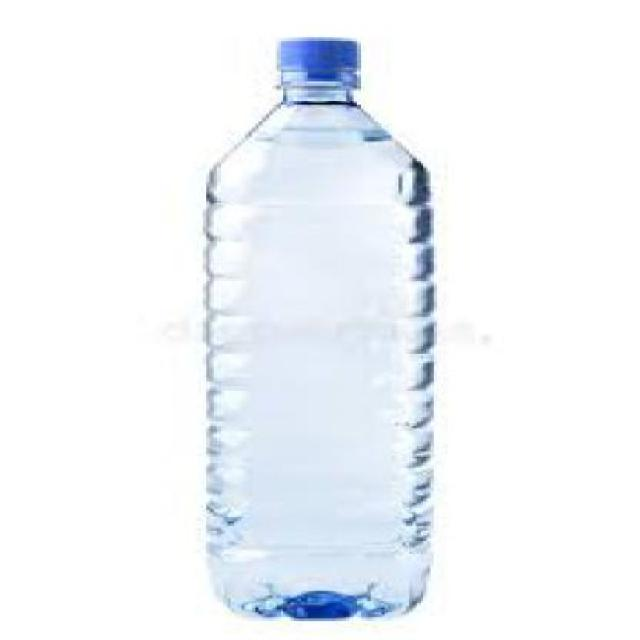PLASTIC: (203, 38, 434, 616), (273, 36, 353, 78)
